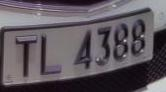3: (93, 24, 112, 69)
4: (71, 28, 95, 75)
8: (128, 16, 150, 59), (111, 20, 131, 65)
L: (35, 32, 63, 80)
T: (10, 32, 40, 82)
